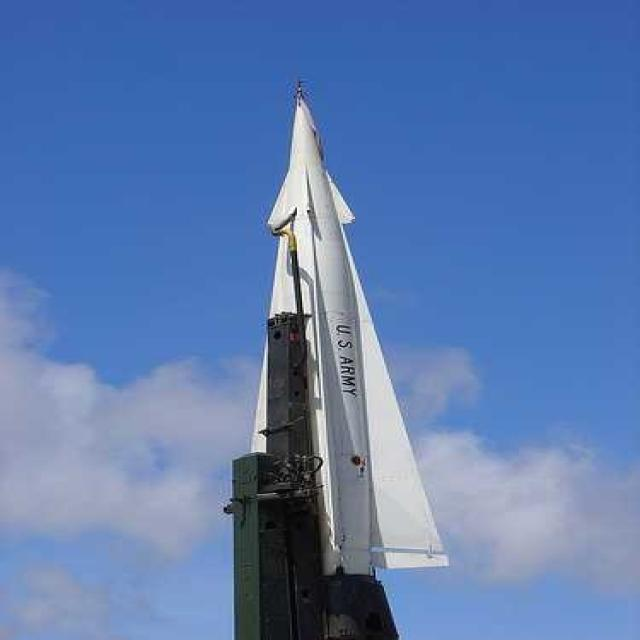missile: (249, 80, 446, 573)
